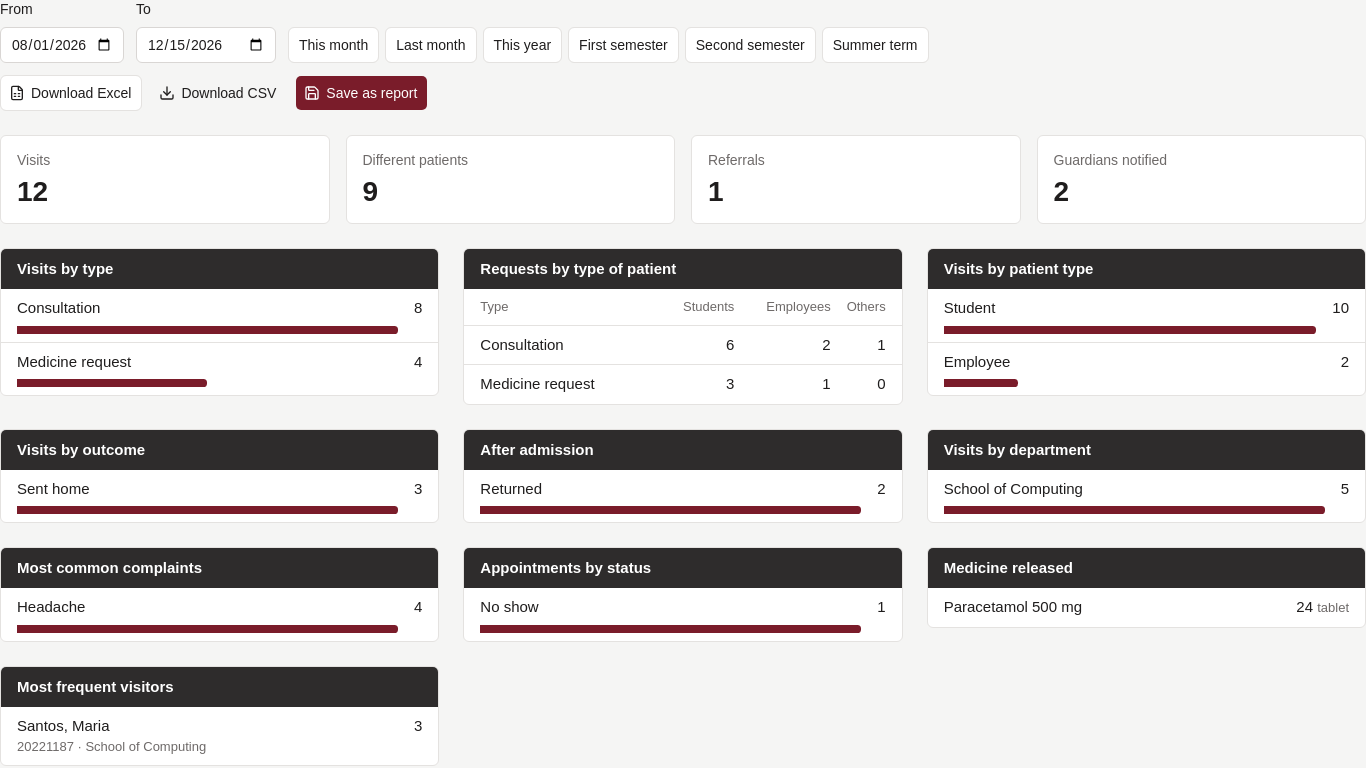
the coordinator saves the period as a report and opens it
Click the button "Save as report": (362, 93) x1=295 y1=75 x2=428 y2=111
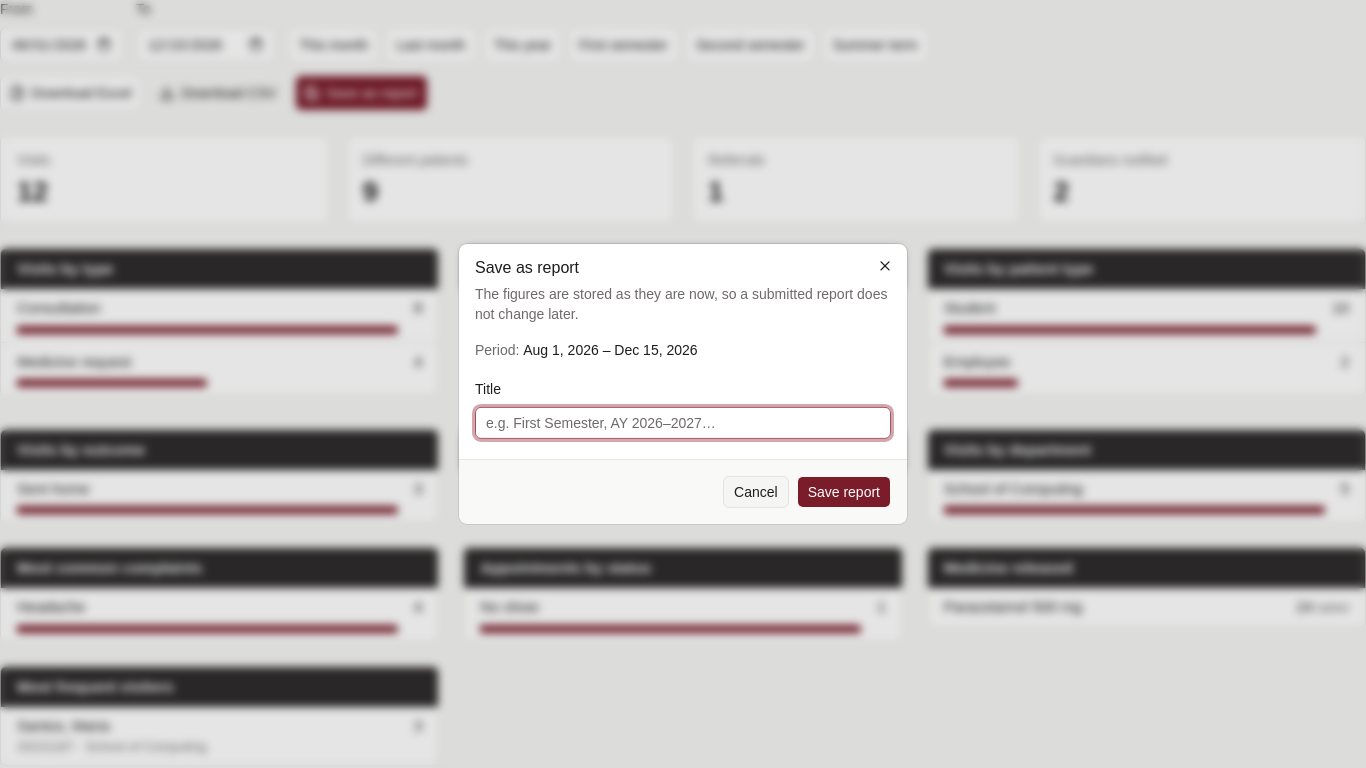
Click the button "Save report": (844, 492) x1=797 y1=476 x2=891 y2=508
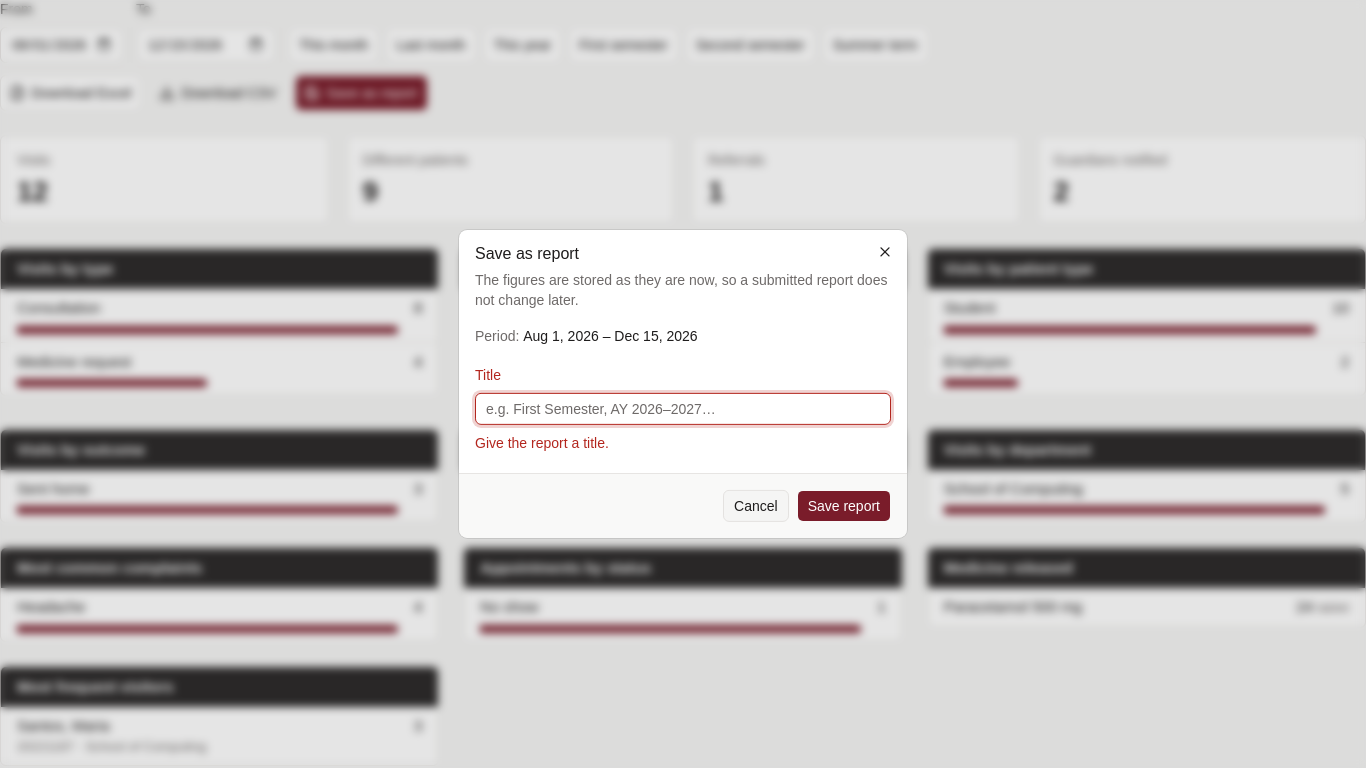
Check: the text "Give the report a title." is shown, box x1=475 y1=435 x2=609 y2=451
In the field labelled "Title": (683, 409) x1=475 y1=393 x2=891 y2=425, type "First Semester"
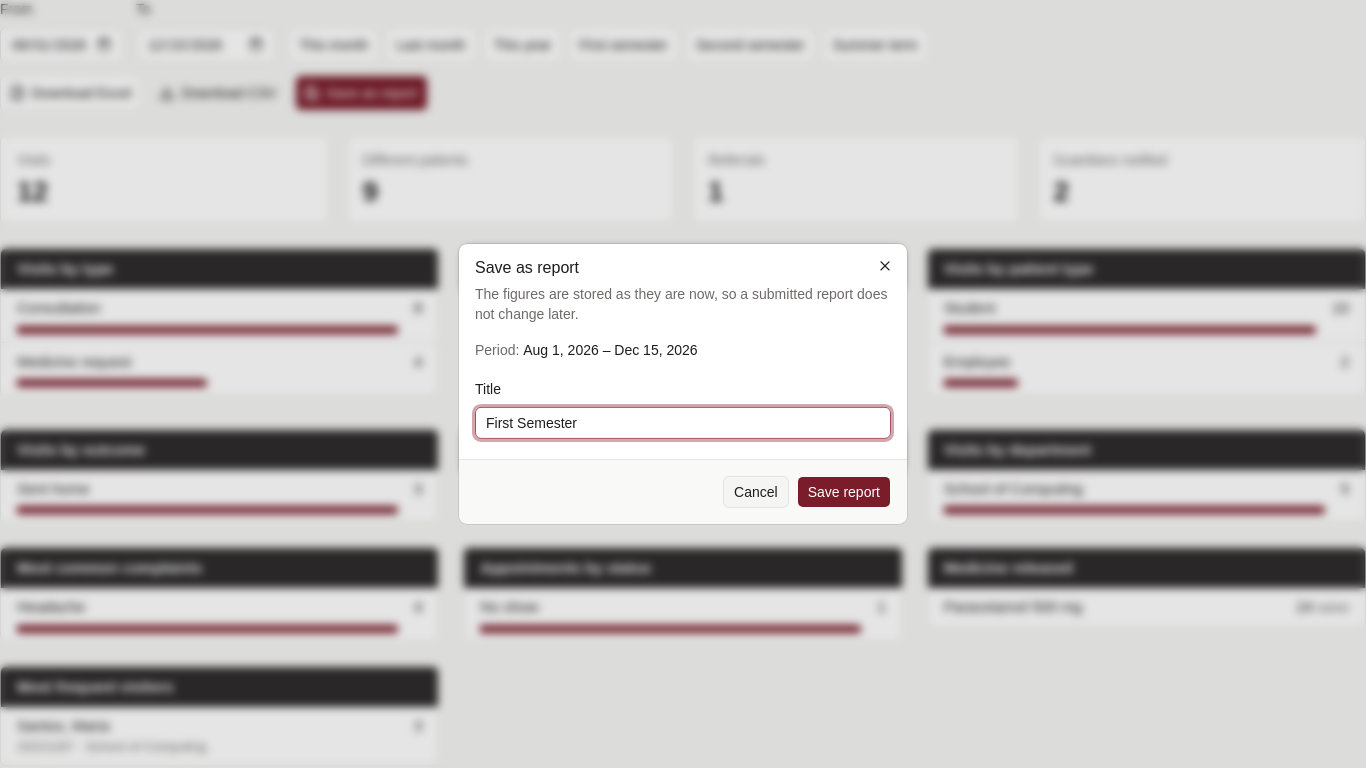
Click the button "Save report": (844, 492) x1=797 y1=476 x2=891 y2=508
(page scrolled)
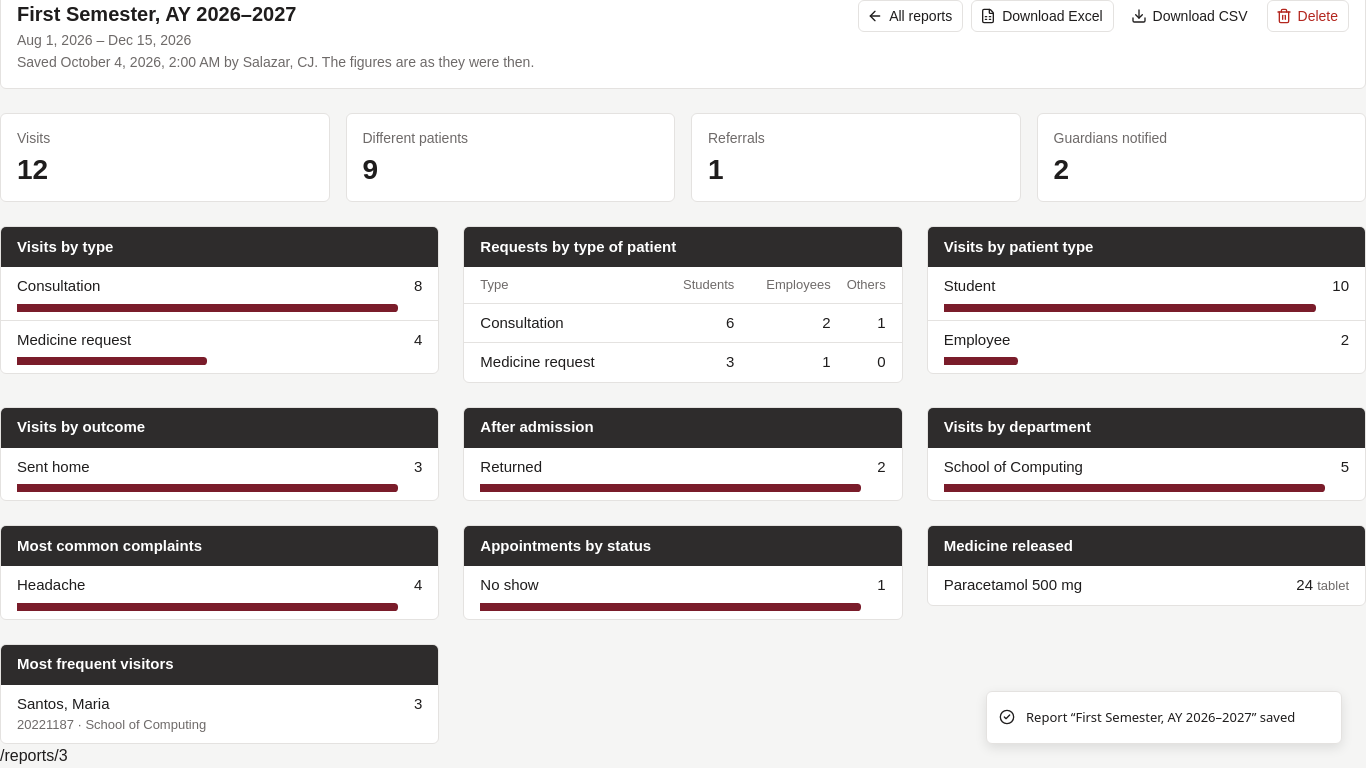
Check: the text "Report “First Semester, AY 2026–2027” saved" is shown, box x1=1026 y1=708 x2=1295 y2=727
Check: the text with test id "address" reads "/reports/3", box x1=0 y1=746 x2=68 y2=764
